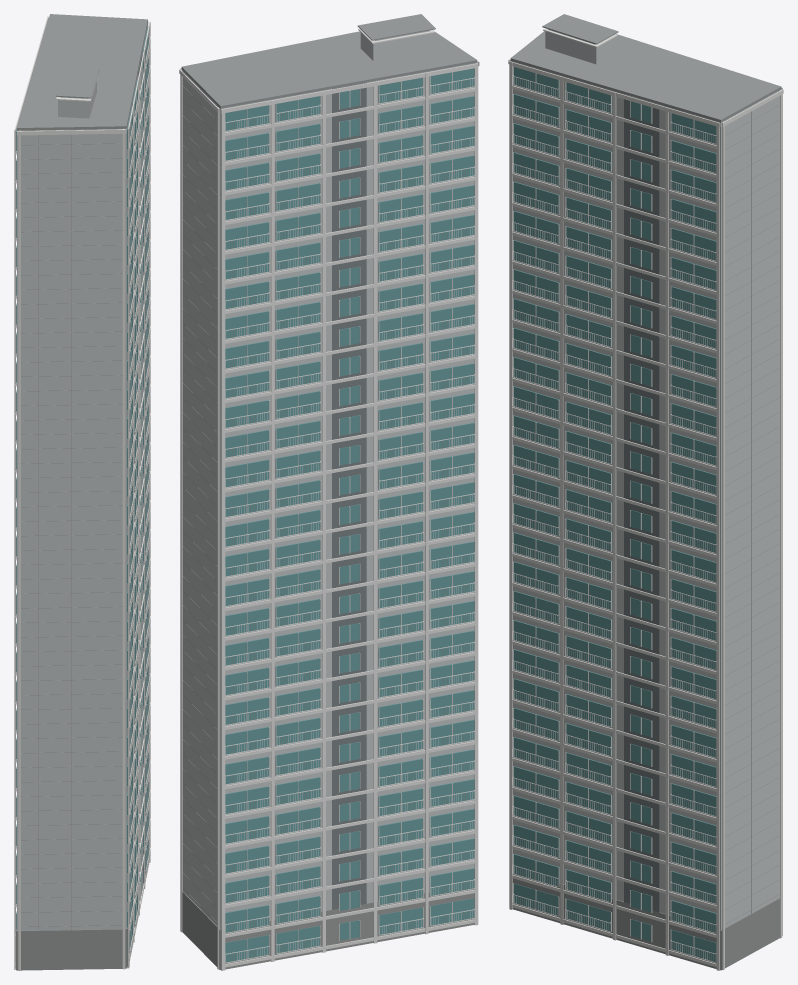
Rendered from bespoke-jamsil-ricenz-223.glb.
3 views of the same model, side by side, from view 1: azimuth 30°, elevation 25°; view 2: azimuth 150°, elevation 25°; view 3: azimuth 270°, elevation 25° (orthographic). The views are drawn at different scales.
Parts seen in each view (by area): view 1: Ricenz223_editable_Ricenz223_light_grey_solid_wall, Ricenz223_editable_Ricenz223_modest_grey_flat_roof_caps, Ricenz223_white_exact_chunk_0, Ricenz223_editable_Ricenz223_turquoise_balcony_glazing, Ricenz223_white_exact_chunk_1, Ricenz223_editable_Ricenz223_muted_ground_wall, Ricenz223_white_exact_chunk_3, Ricenz223_white_exact_chunk_2; view 2: Ricenz223_editable_Ricenz223_turquoise_balcony_glazing, Ricenz223_editable_Ricenz223_light_grey_solid_wall, Ricenz223_white_exact_chunk_2, Ricenz223_white_exact_chunk_3, Ricenz223_white_exact_chunk_1, Ricenz223_editable_Ricenz223_narrow_charcoal_service_strips, Ricenz223_editable_Ricenz223_modest_grey_flat_roof_caps, Ricenz223_editable_Ricenz223_muted_ground_wall; view 3: Ricenz223_editable_Ricenz223_turquoise_balcony_glazing, Ricenz223_editable_Ricenz223_light_grey_solid_wall, Ricenz223_white_exact_chunk_0, Ricenz223_white_exact_chunk_1, Ricenz223_editable_Ricenz223_narrow_charcoal_service_strips, Ricenz223_editable_Ricenz223_modest_grey_flat_roof_caps, Ricenz223_editable_Ricenz223_muted_ground_wall, Ricenz223_white_exact_chunk_3.
Boxes of the visible parts, x1,y1,x2,y2 form: Ricenz223_editable_Ricenz223_light_grey_solid_wall: (17,22,147,930); Ricenz223_editable_Ricenz223_modest_grey_flat_roof_caps: (17,14,147,930); Ricenz223_white_exact_chunk_0: (17,64,150,970); Ricenz223_editable_Ricenz223_turquoise_balcony_glazing: (16,26,148,959); Ricenz223_white_exact_chunk_1: (128,21,150,968); Ricenz223_editable_Ricenz223_muted_ground_wall: (16,844,145,970); Ricenz223_white_exact_chunk_3: (14,16,98,969); Ricenz223_white_exact_chunk_2: (15,306,16,967); Ricenz223_editable_Ricenz223_turquoise_balcony_glazing: (225,68,474,962); Ricenz223_editable_Ricenz223_light_grey_solid_wall: (181,30,476,929); Ricenz223_white_exact_chunk_2: (274,77,474,949); Ricenz223_white_exact_chunk_3: (221,29,478,970); Ricenz223_white_exact_chunk_1: (179,68,322,969); Ricenz223_editable_Ricenz223_narrow_charcoal_service_strips: (332,82,366,909); Ricenz223_editable_Ricenz223_modest_grey_flat_roof_caps: (181,14,477,921); Ricenz223_editable_Ricenz223_muted_ground_wall: (182,888,474,969); Ricenz223_editable_Ricenz223_turquoise_balcony_glazing: (513,67,716,961); Ricenz223_editable_Ricenz223_light_grey_solid_wall: (511,29,781,930); Ricenz223_white_exact_chunk_0: (508,58,716,967); Ricenz223_white_exact_chunk_1: (509,61,783,970); Ricenz223_editable_Ricenz223_narrow_charcoal_service_strips: (624,94,659,912); Ricenz223_editable_Ricenz223_modest_grey_flat_roof_caps: (510,14,781,924); Ricenz223_editable_Ricenz223_muted_ground_wall: (512,874,779,970); Ricenz223_white_exact_chunk_3: (543,28,782,935).
Bounding box in the file's own units: 22.8 × 88.33 × 25.26.
